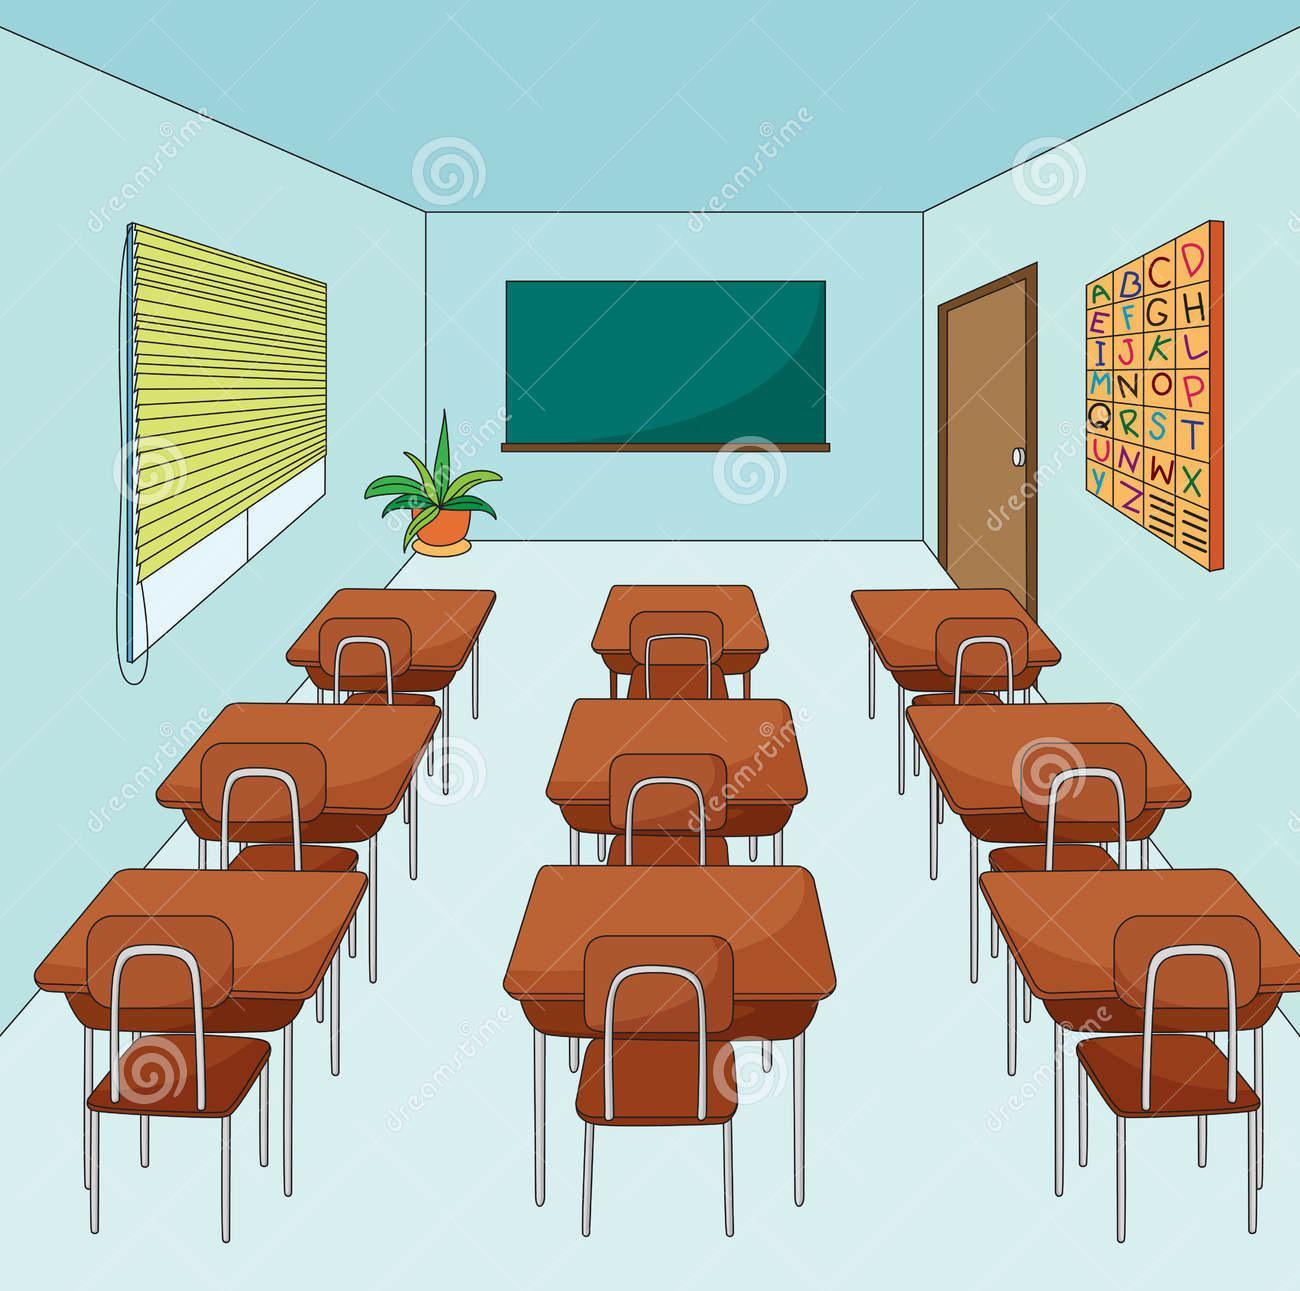chair: (1052, 906, 1270, 1239), (74, 917, 275, 1245), (565, 928, 749, 1245), (979, 734, 1161, 872), (191, 737, 368, 876), (599, 747, 741, 876), (312, 614, 441, 719), (906, 606, 1034, 702), (617, 604, 739, 702)
pottedplant: (363, 419, 490, 564)
